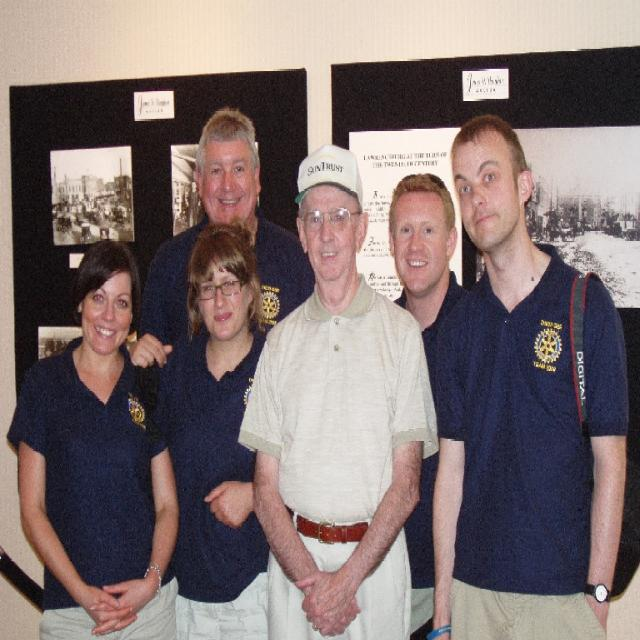body: (416, 108, 639, 639), (233, 135, 442, 639), (2, 232, 188, 639), (126, 220, 276, 639), (136, 103, 321, 398), (385, 172, 476, 594), (49, 164, 133, 246), (527, 195, 639, 249)
